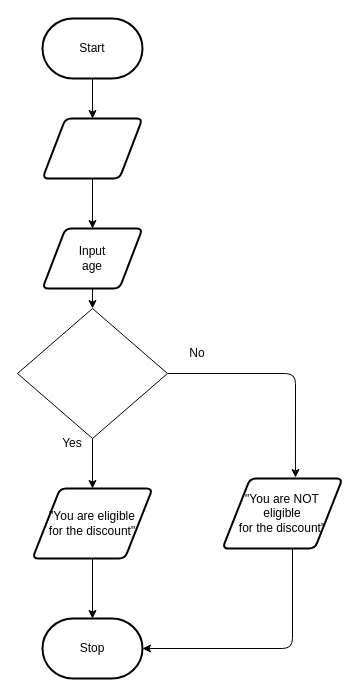
Image size: 361x696. Some labels were removed from this diagram. Here are the shapes that lost their labels. From the top down, the centre of each, then its label:
At pixel 92 148: "Input date(day)".
At pixel 92 373: "if ((day == Tuesday || day ==Thursday) || (age > 12 && age < 25))".
